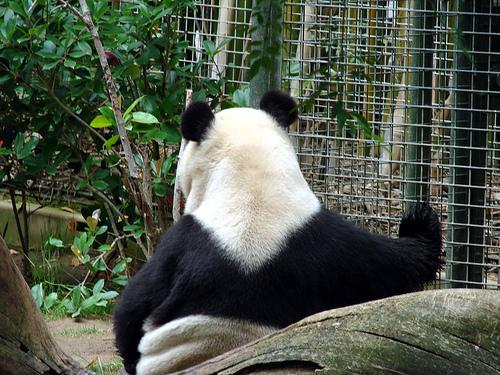panda: (114, 91, 440, 374)
